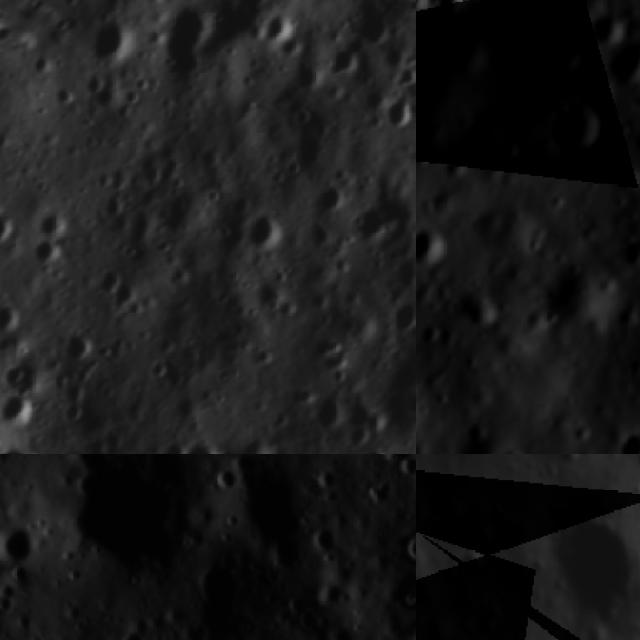crater: (41, 454, 208, 586), (138, 0, 244, 102), (528, 83, 614, 169), (562, 519, 640, 613), (70, 12, 144, 87), (295, 380, 363, 451), (235, 199, 297, 260), (416, 211, 465, 284), (435, 28, 494, 88), (416, 0, 525, 32), (416, 56, 453, 145), (596, 28, 640, 99), (317, 606, 406, 640), (539, 37, 593, 90), (17, 235, 71, 287), (0, 514, 45, 572), (0, 197, 33, 263), (0, 424, 69, 454), (164, 430, 243, 454), (416, 309, 452, 355), (599, 414, 640, 454), (396, 32, 416, 112), (369, 454, 416, 480), (393, 516, 416, 569), (422, 497, 455, 519), (465, 526, 494, 548), (112, 626, 153, 640), (458, 555, 485, 576), (440, 568, 463, 583), (555, 454, 578, 467)
